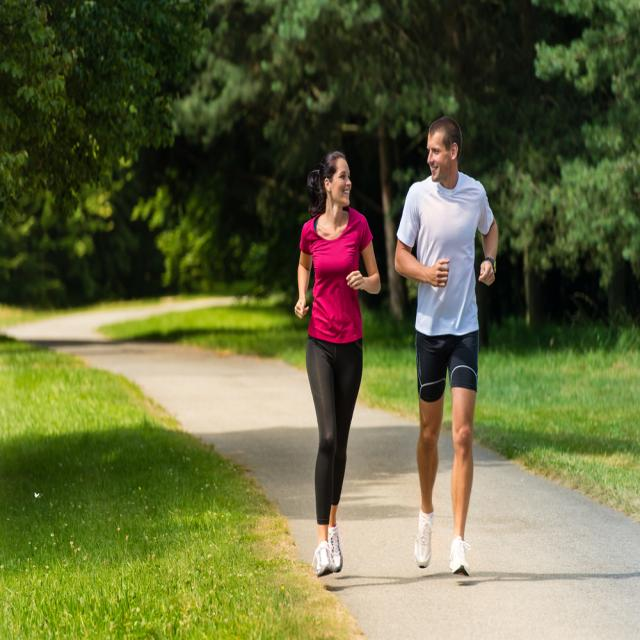Person: (395, 116, 497, 582), (295, 149, 381, 578)
